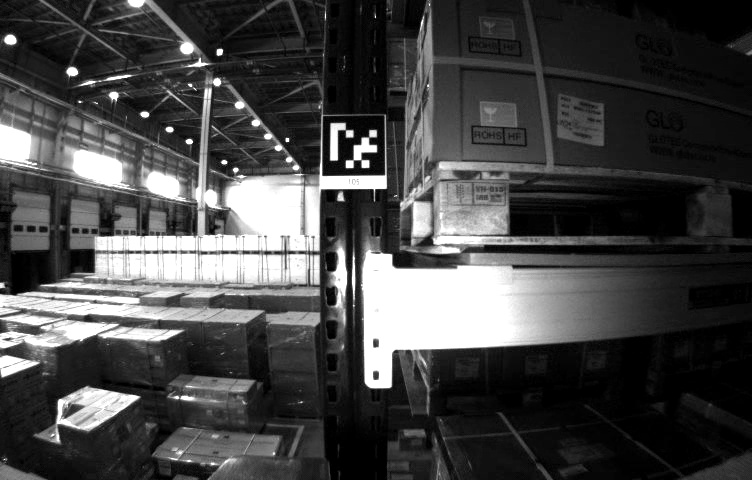True Barcode: (554, 91, 606, 149)
